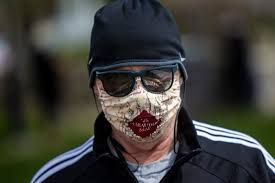with-mask: (81, 38, 199, 150)
